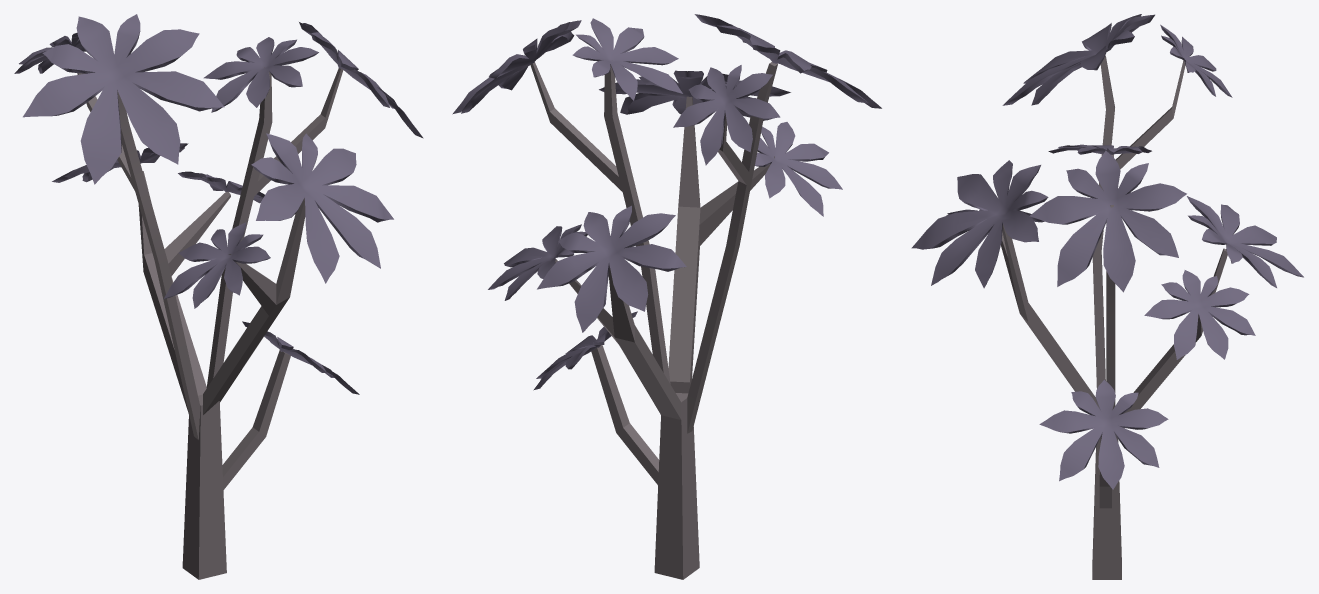
Rendered from arbre_violet_c.fbx.
3 views of the same model, side by side, from view 1: azimuth 30°, elevation 25°; view 2: azimuth 150°, elevation 25°; view 3: azimuth 270°, elevation 25° (orthographic). The views are drawn at different scales.
Visible parts, largest first — view 1: arbre_violet1_combined; view 2: arbre_violet1_combined; view 3: arbre_violet1_combined.
Part boxes in pixels (x1=…): arbre_violet1_combined: x1=14, y1=14, x2=423, y2=579; arbre_violet1_combined: x1=452, y1=14, x2=881, y2=579; arbre_violet1_combined: x1=911, y1=14, x2=1303, y2=579.
Size of the model in its own units: 2.38 by 3.27 by 2.27.
